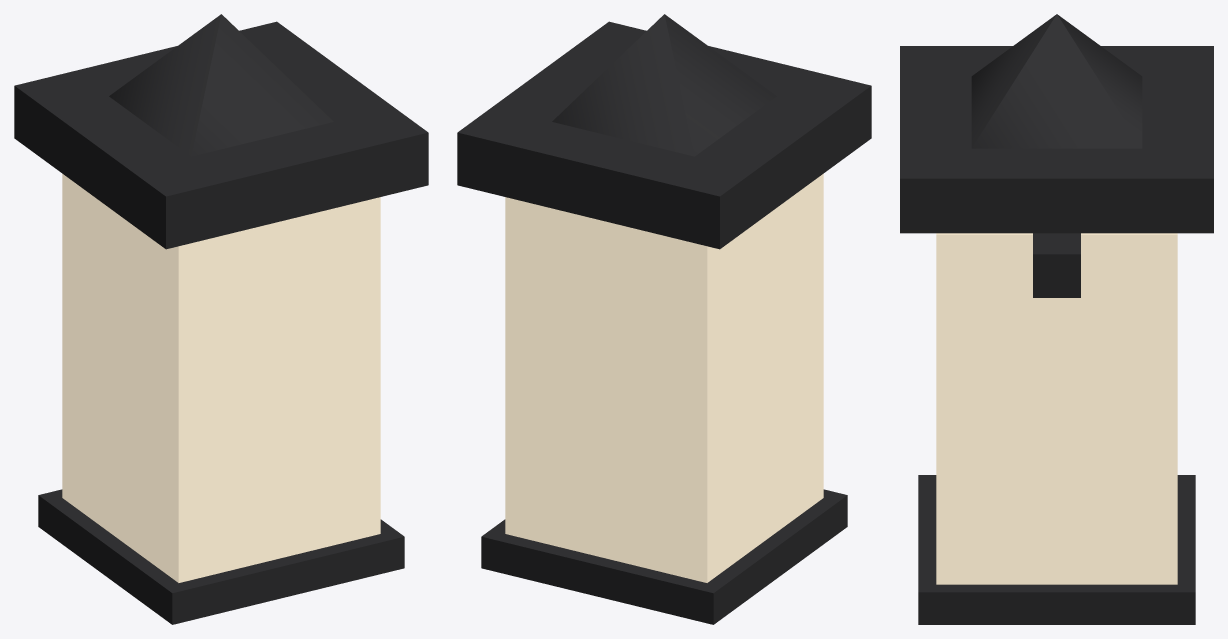
Rendered from lamp-porch.glb.
The picture shows the model from 3 angles, left to right: view 1: azimuth 30°, elevation 25°; view 2: azimuth 150°, elevation 25°; view 3: azimuth 270°, elevation 25°; orthographic projection. The views are drawn at different scales.
Visible parts, largest first — view 1: lamp-porch; view 2: lamp-porch; view 3: lamp-porch.
Part boxes in pixels (x1,y1,x2,y2): lamp-porch: [14, 14, 428, 624]; lamp-porch: [457, 14, 871, 624]; lamp-porch: [900, 14, 1213, 624].
Bounding box in the file's own units: 0.58 × 1.01 × 0.52.
